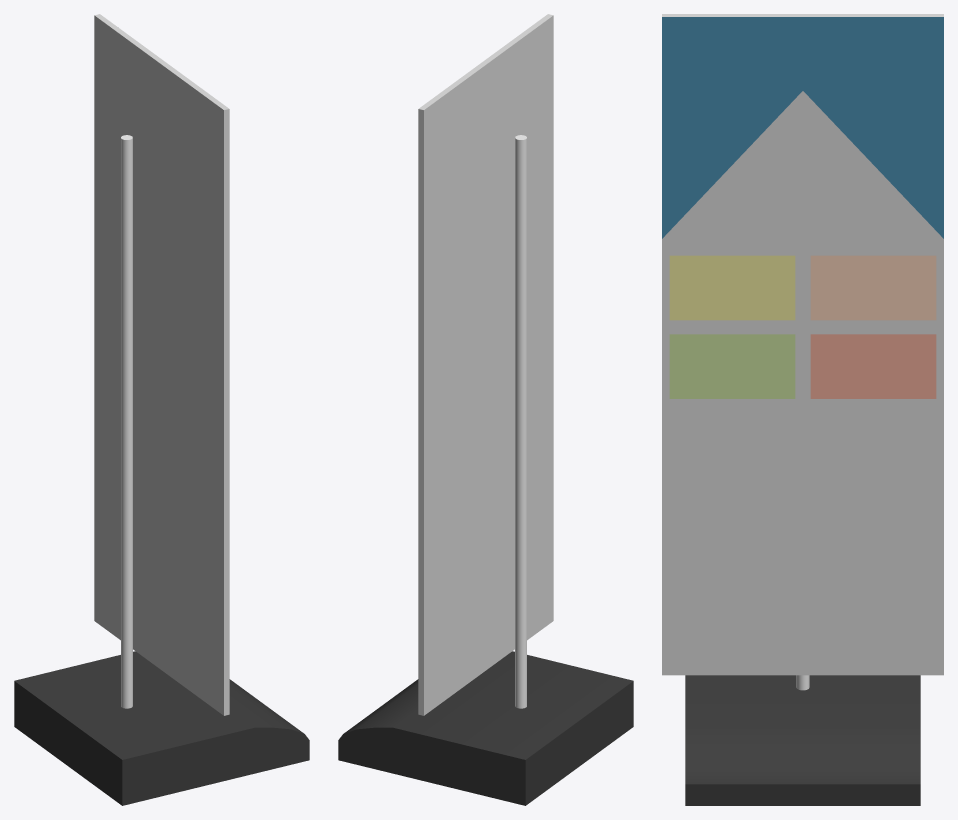
File: pannel1.fbx
3 views of the same model, side by side, from view 1: azimuth 30°, elevation 25°; view 2: azimuth 150°, elevation 25°; view 3: azimuth 270°, elevation 25° (orthographic). The views are drawn at different scales.
Parts seen in each view (by area): view 1: Cylinder; view 2: Cylinder; view 3: Cylinder.
Part boxes in pixels (x1,y1,x2,y2): Cylinder: [14, 14, 309, 805]; Cylinder: [338, 14, 633, 805]; Cylinder: [662, 14, 943, 805].
Bounding box in the file's own units: 201 × 699 × 241.
1 material, 1 textured.
